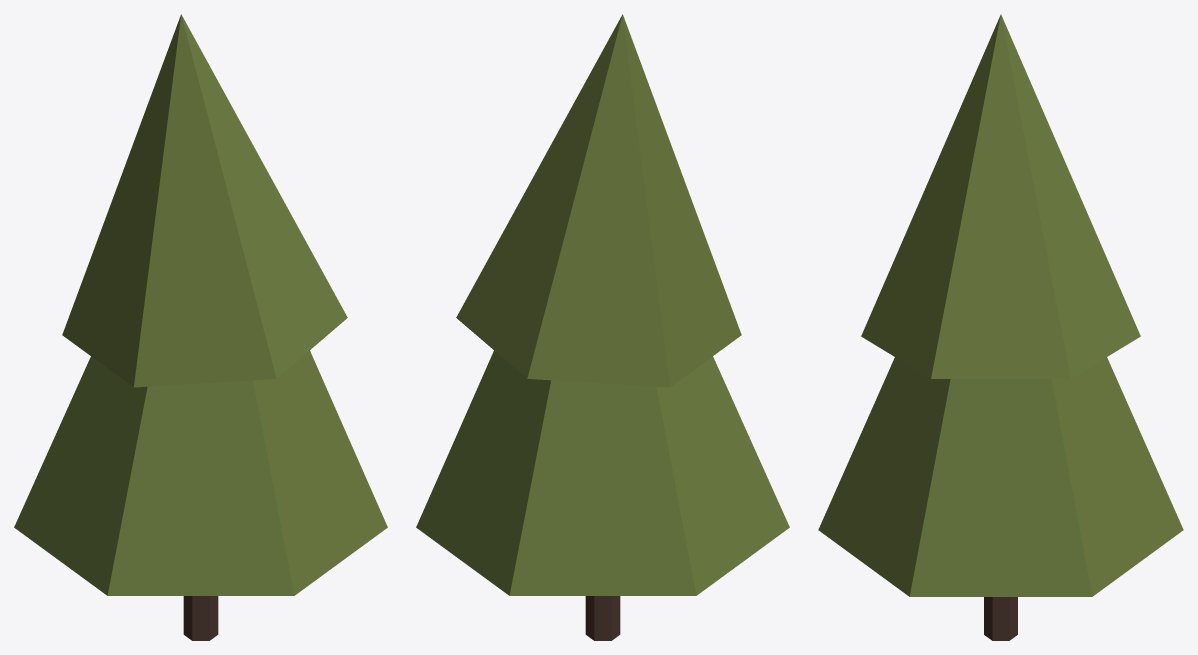
File: Tree_Type1_02.glb
3 renders of one model, left to right at view 1: azimuth 30°, elevation 25°; view 2: azimuth 150°, elevation 25°; view 3: azimuth 270°, elevation 25°, orthographic. The views are drawn at different scales.
Visible parts, largest first — view 1: Tree Type1 02 Model; view 2: Tree Type1 02 Model; view 3: Tree Type1 02 Model.
Part boxes in pixels (bbox=[...]): Tree Type1 02 Model: bbox=[14, 14, 387, 640]; Tree Type1 02 Model: bbox=[416, 14, 789, 640]; Tree Type1 02 Model: bbox=[818, 14, 1183, 640].
Size of the model in its own units: 1.1 by 2.33 by 1.26.
Materials: 1 (1 with a texture image).
